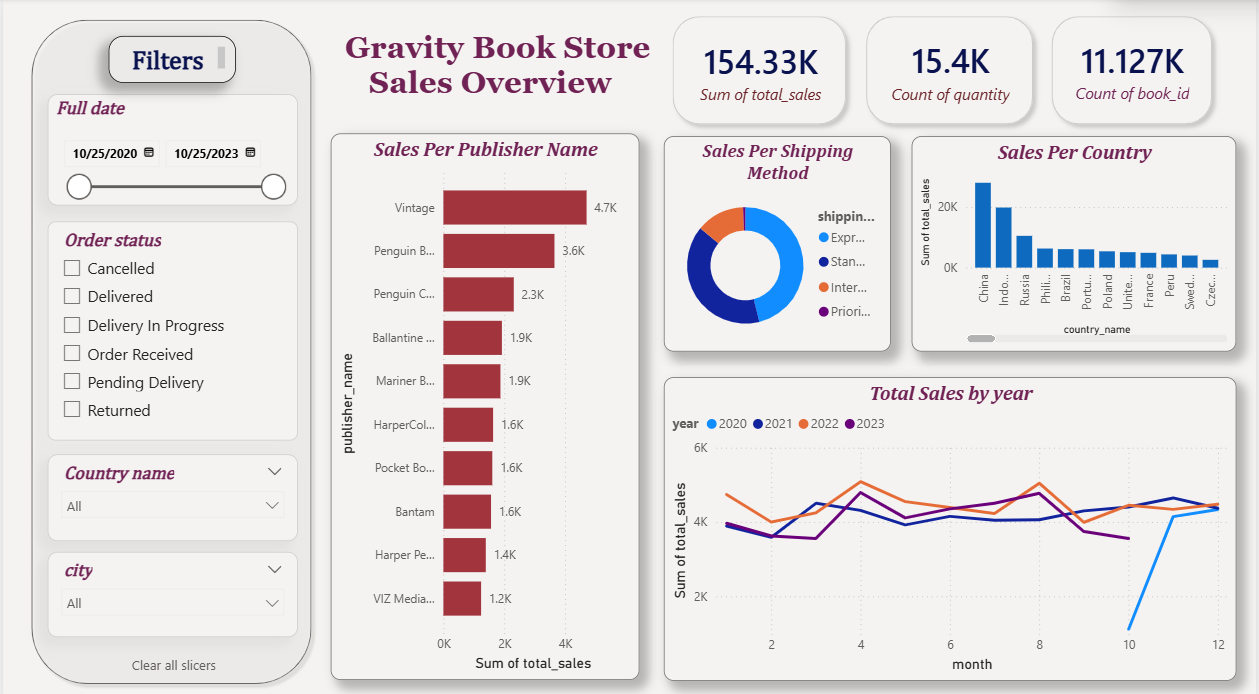

The page's visual inventory and layout, read from the dashboard file:
{"tool":"powerbi","page":{"name":"Page 1","canvas":[1280,720],"ordinal":0},"visuals":[{"type":"textbox","box":[345,26.7,343.3,115],"z":0},{"type":"shape","box":[22.5,15,300,692.5],"z":1000},{"type":"slicer","fields":{"Values":["Order_status_dim.order_status"]},"box":[45,228.7,255.5,223.6],"z":2000},{"type":"slicer","title":"     Full date","fields":{"Values":["Date_dim.full_date"]},"box":[45,98.2,255.6,113.9],"z":3000},{"type":"slicer","fields":{"Values":["Address_dim.country_name"]},"box":[45,466.2,255.6,88.9],"z":4000},{"type":"slicer","fields":{"Values":["Address_dim.city"]},"box":[45,566.2,255.6,87.5],"z":5000},{"type":"textbox","box":[108.3,38.3,130,48.3],"z":6000},{"type":"shape","box":[675,10,195,128.3],"z":7000},{"type":"shape","box":[873.3,10,188.3,128.3],"z":8000},{"type":"shape","box":[1061.7,10,181.7,128.3],"z":9000},{"type":"cardVisual","fields":{"Data":["Sum(Sales_fact.total_sales)"]},"box":[663.3,25,220,100],"z":10000},{"type":"cardVisual","fields":{"Data":["CountNonNull(Sales_fact.quantity)"]},"box":[848.3,6.7,240,135],"z":11000},{"type":"cardVisual","fields":{"Data":["Count(Book_dim.book_id)"]},"box":[1046.7,10,213.3,128.3],"z":12000},{"type":"lineChart","title":"Total Sales by year","fields":{"Category":["Date_dim.month"],"Y":["Sum(Sales_fact.total_sales)"],"Series":["Date_dim.year"]},"box":[675,386.7,585,310],"z":13000},{"type":"donutChart","title":"Sales Per Shipping Method","fields":{"Category":["Shipping_method_dim.shipping_method_name"],"Y":["CountNonNull(Sales_fact.sales_id)"]},"box":[675,141.7,231.7,220],"z":14000},{"type":"barChart","title":"Sales Per Publisher Name","fields":{"Y":["Sum(Sales_fact.total_sales)"],"Category":["Book_dim.publisher_name"]},"box":[335,138.3,315,558.3],"z":15000},{"type":"columnChart","title":"Sales Per Country","fields":{"Category":["Address_dim.country_name"],"Y":["Sum(Sales_fact.total_sales)"]},"box":[928.3,141.7,331.7,220],"z":16000},{"type":"actionButton","box":[108.3,663.3,133.3,33.3],"z":17000}]}

Visuals, with their boxes in screenshot pixels (x1, y1, x2, y2), scaled from the page's 1280x720 canvas onto the 1259x694 screenshot:
textbox: bbox=(339, 26, 677, 137)
shape: bbox=(22, 14, 317, 682)
slicer - Order_status_dim.order_status: bbox=(44, 220, 296, 436)
"     Full date" slicer: bbox=(44, 95, 296, 204)
slicer - Address_dim.country_name: bbox=(44, 449, 296, 535)
slicer - Address_dim.city: bbox=(44, 546, 296, 630)
textbox: bbox=(107, 37, 234, 83)
shape: bbox=(664, 10, 856, 133)
shape: bbox=(859, 10, 1044, 133)
shape: bbox=(1044, 10, 1223, 133)
cardVisual - Sum(Sales_fact.total_sales): bbox=(652, 24, 869, 120)
cardVisual - CountNonNull(Sales_fact.quantity): bbox=(834, 6, 1070, 137)
cardVisual - Count(Book_dim.book_id): bbox=(1030, 10, 1239, 133)
"Total Sales by year" lineChart: bbox=(664, 373, 1239, 672)
"Sales Per Shipping Method" donutChart: bbox=(664, 137, 892, 349)
"Sales Per Publisher Name" barChart: bbox=(330, 133, 639, 671)
"Sales Per Country" columnChart: bbox=(913, 137, 1239, 349)
actionButton: bbox=(107, 639, 238, 671)
